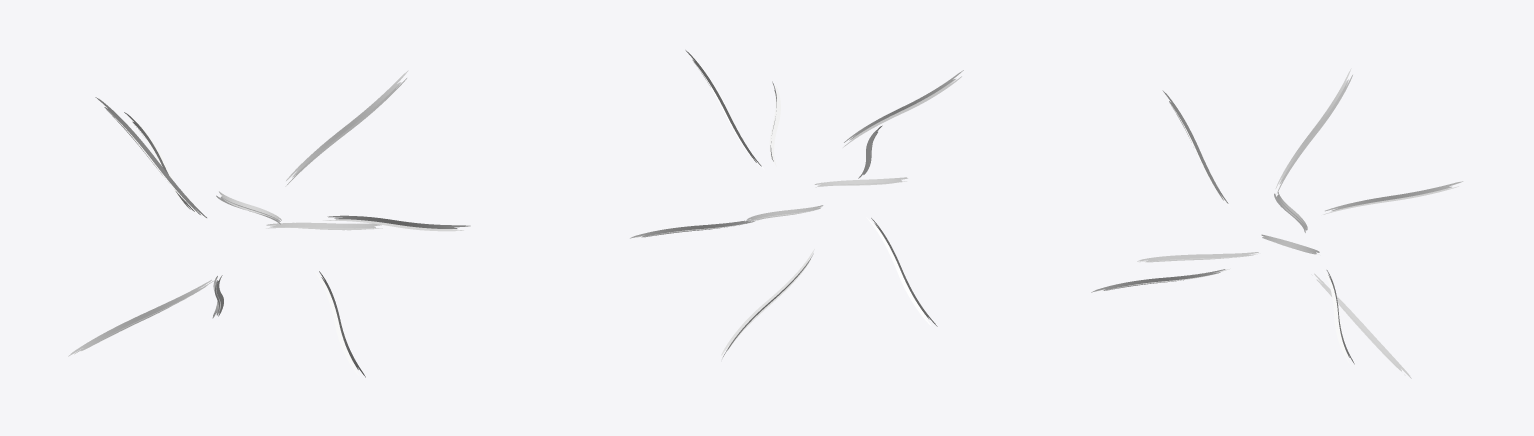
The model's file is MagicCasting_02.FBX.
The picture shows the model from 3 angles, left to right: view 1: azimuth 30°, elevation 25°; view 2: azimuth 150°, elevation 25°; view 3: azimuth 270°, elevation 25°; orthographic projection. The views are drawn at different scales.
Parts seen in each view (by area): view 1: Plane024; view 2: Plane024; view 3: Plane024.
Boxes of the visible parts, left/top/right/bottom form: Plane024: left=68, top=70, right=470, bottom=377; Plane024: left=630, top=50, right=963, bottom=358; Plane024: left=1091, top=68, right=1463, bottom=378.
Bounding box in the file's own units: 741 × 607 × 821.
Materials: 1 (1 with a texture image).
